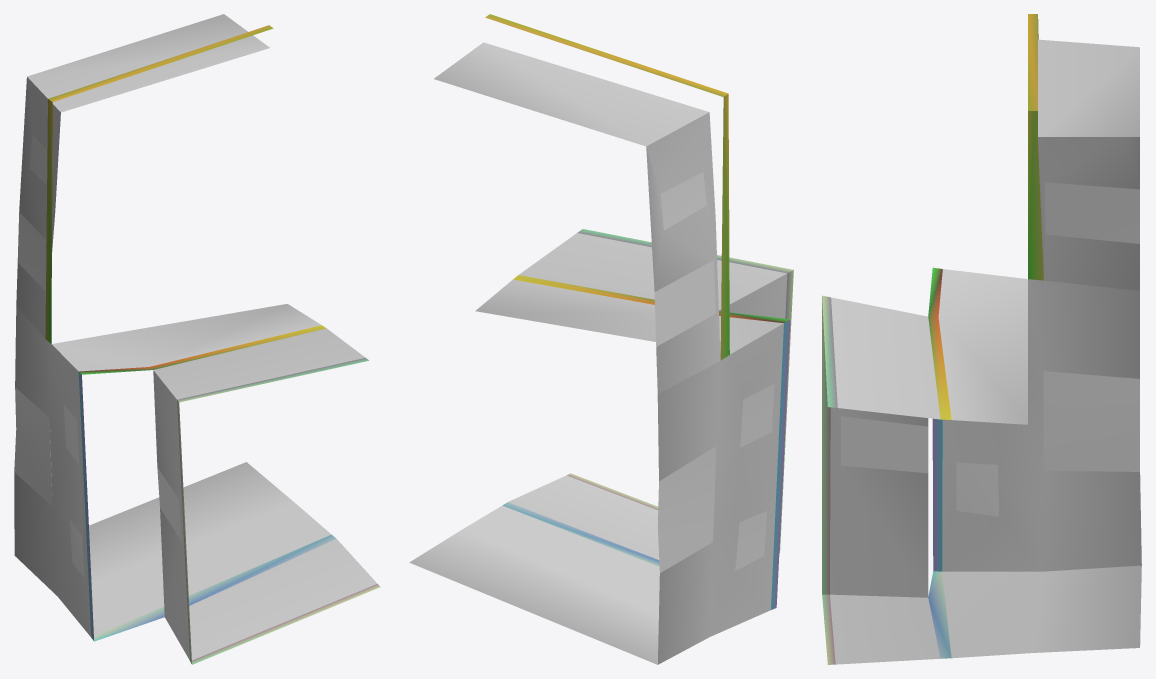
Rendered from Village_ClusterLowB.glb.
3 views of the same model, side by side, from view 1: azimuth 30°, elevation 25°; view 2: azimuth 150°, elevation 25°; view 3: azimuth 270°, elevation 25° (orthographic). The views are drawn at different scales.
Visible parts, largest first — view 1: MeshNode_2, MeshNode_0, MeshNode_1; view 2: MeshNode_2, MeshNode_1, MeshNode_0; view 3: MeshNode_2, MeshNode_1, MeshNode_0.
Boxes of the visible parts, x1,y1,x2,y2 form: MeshNode_2: (14,14,377,660); MeshNode_0: (45,25,380,664); MeshNode_1: (14,135,181,577); MeshNode_2: (409,42,787,664); MeshNode_1: (654,172,774,572); MeshNode_0: (485,14,793,609); MeshNode_2: (830,39,1141,664); MeshNode_1: (841,182,1139,516); MeshNode_0: (822,14,1043,664).
Size of the model in its own units: 18.15 by 35.32 by 17.64.
